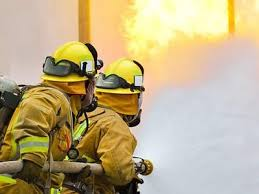emergent: (1, 40, 90, 194), (94, 55, 152, 194)
